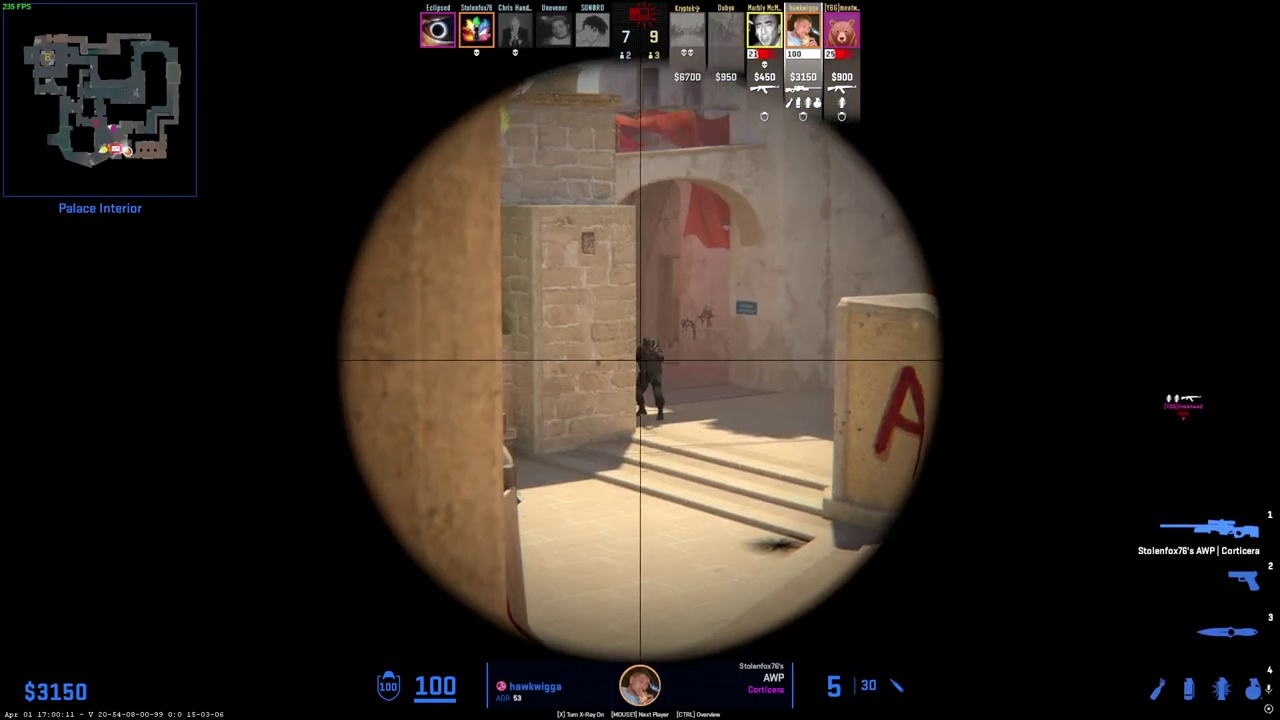CT: (636, 337, 665, 419)
